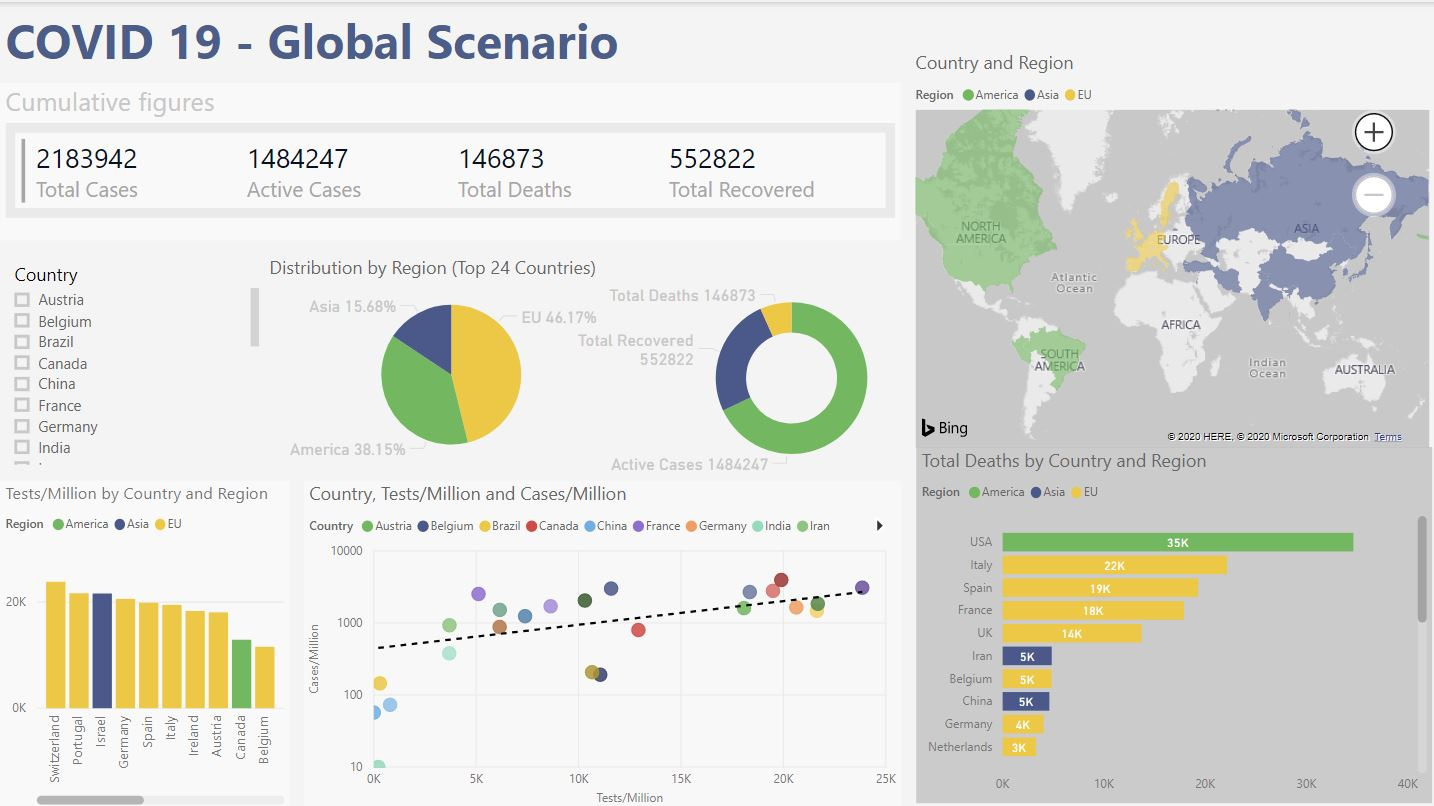

This screenshot's page, from the dashboard's own definition file:
{"tool":"powerbi","page":{"name":"Covid19 Dashboard","canvas":[1280,720],"ordinal":0},"visuals":[{"type":"filledMap","fields":{"Category":["global.Country"],"Series":["global.Region"]},"box":[811.8,42.3,468.7,360],"z":0},{"type":"donutChart","fields":{"Y":["Sum(global.Active Cases)","Sum(global.Total Recovered)","Sum(global.Total Deaths)"]},"box":[472.3,244,466.3,182.4],"z":1000},{"type":"barChart","fields":{"Category":["global.Country"],"Y":["Sum(global.Total Deaths)"],"Series":["global.Region"]},"box":[816.6,396.2,460.3,317.7],"z":2000},{"type":"scatterChart","fields":{"X":["Sum(global.Tests/Million)"],"Series":["global.Country"],"Y":["global.Cases/Million"]},"box":[270.6,426.4,532.8,293.6],"z":3000},{"type":"multiRowCard","title":"Cumulative figures","fields":{"Values":["Sum(global.Total Cases)","Sum(global.Active Cases)","Sum(global.Total Deaths)","Sum(global.Total Recovered)"]},"box":[0,72.5,803.4,140.1],"z":4000},{"type":"textbox","box":[0,0,566.2,72.7],"z":5000},{"type":"pieChart","title":"Distribution by Region (Top 24 Countries)","fields":{"Category":["global.Region"],"Y":["Sum(global.Total Cases)"]},"box":[235.6,224.7,334.6,193.3],"z":6000},{"type":"columnChart","fields":{"Y":["Sum(global.Tests/Million)"],"Category":["global.Country"],"Series":["global.Region"]},"box":[0,426.4,258.5,293.6],"z":7000},{"type":"slicer","fields":{"Values":["global.Country"]},"box":[0,226,236,192],"z":8000}]}

Visuals, with their boxes in screenshot pixels (x1, y1, x2, y2), scaled from the page's 1280x720 canvas onto the 1434x806 screenshot:
filledMap - global.Country x global.Region: (909, 47, 1433, 450)
donutChart - Sum(global.Active Cases) x Sum(global.Total Recovered): (529, 273, 1052, 477)
barChart - global.Country x Sum(global.Total Deaths): (915, 444, 1431, 799)
scatterChart - Sum(global.Tests/Million) x global.Country: (303, 477, 900, 805)
"Cumulative figures" multiRowCard: (0, 81, 900, 238)
textbox: (0, 0, 634, 81)
"Distribution by Region (Top 24 Countries)" pieChart: (264, 252, 639, 468)
columnChart - Sum(global.Tests/Million) x global.Country: (0, 477, 290, 805)
slicer - global.Country: (0, 253, 264, 468)
